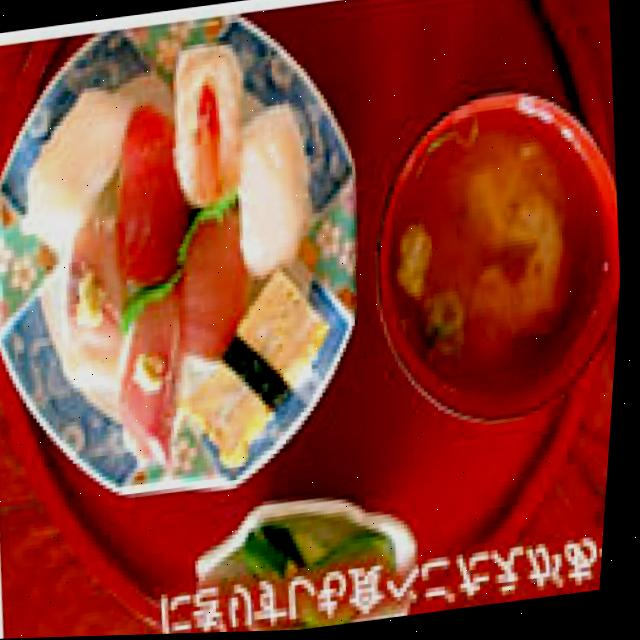寿司卷物: (0, 27, 376, 507)
